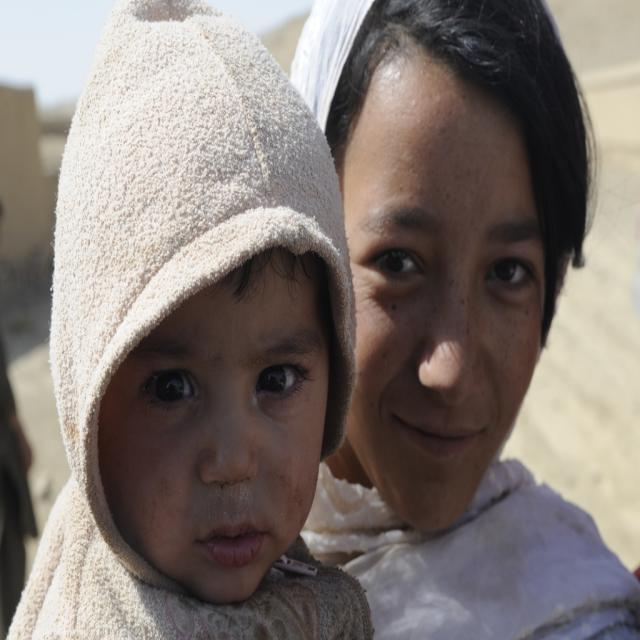closed-mouth: (400, 405, 488, 462), (196, 506, 274, 568)
